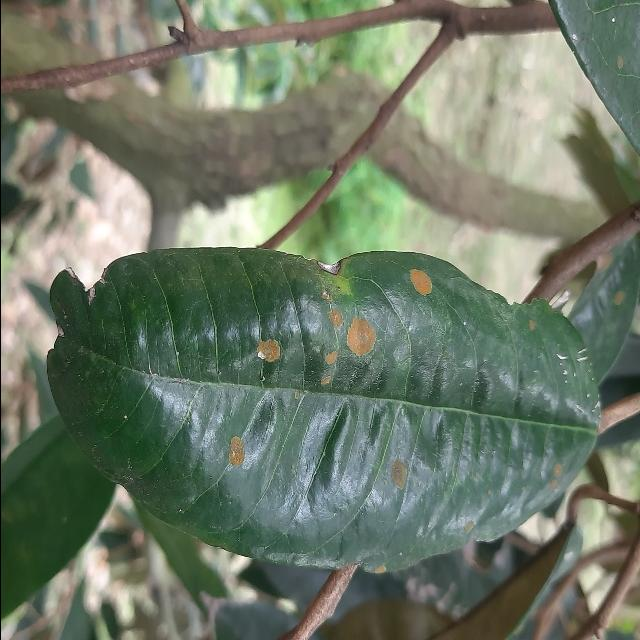Algal Leaf Spot: (37, 255, 609, 577)
